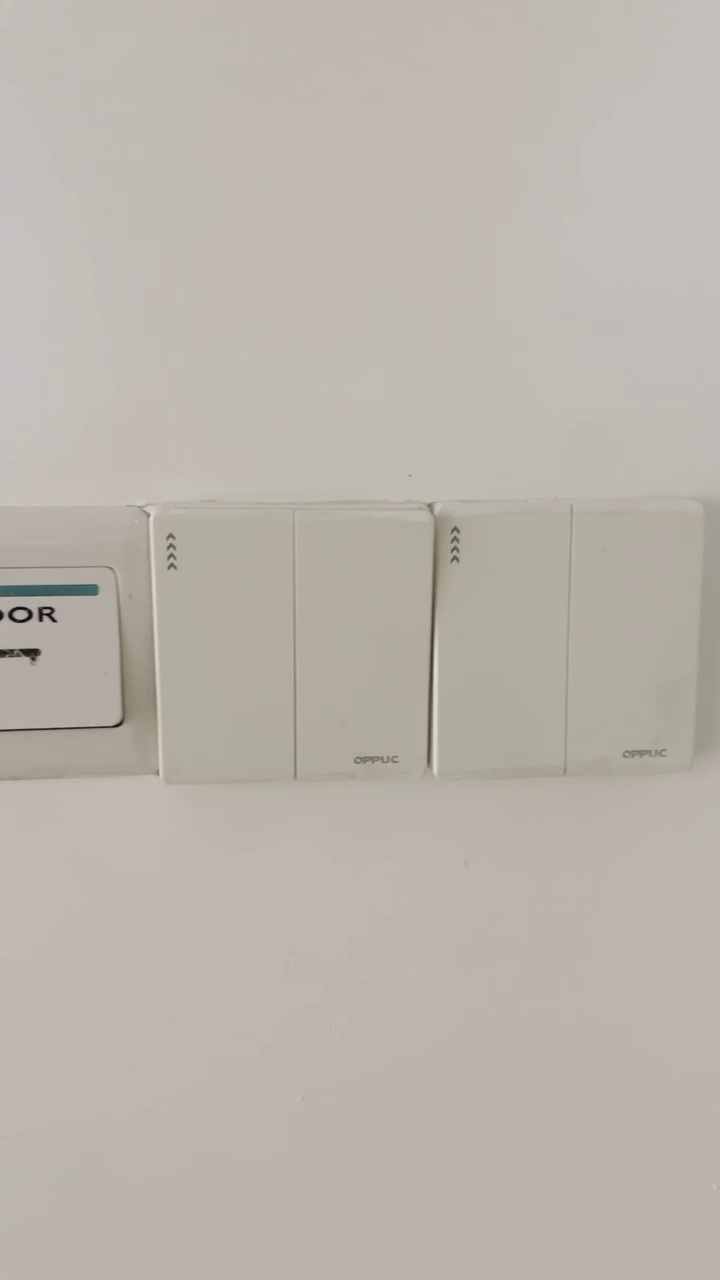button1: (157, 508, 293, 778), (296, 513, 427, 775), (437, 509, 565, 773), (575, 509, 693, 766)
